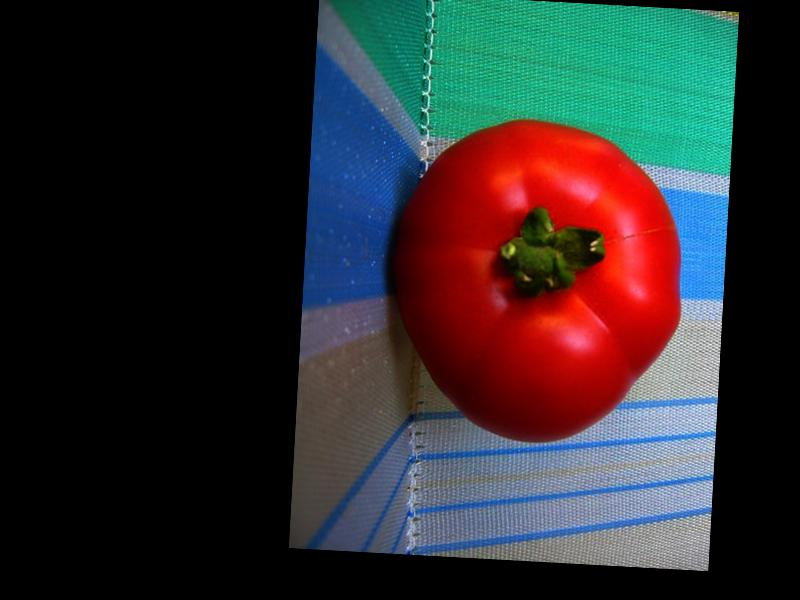Tomato: (382, 112, 690, 447)
